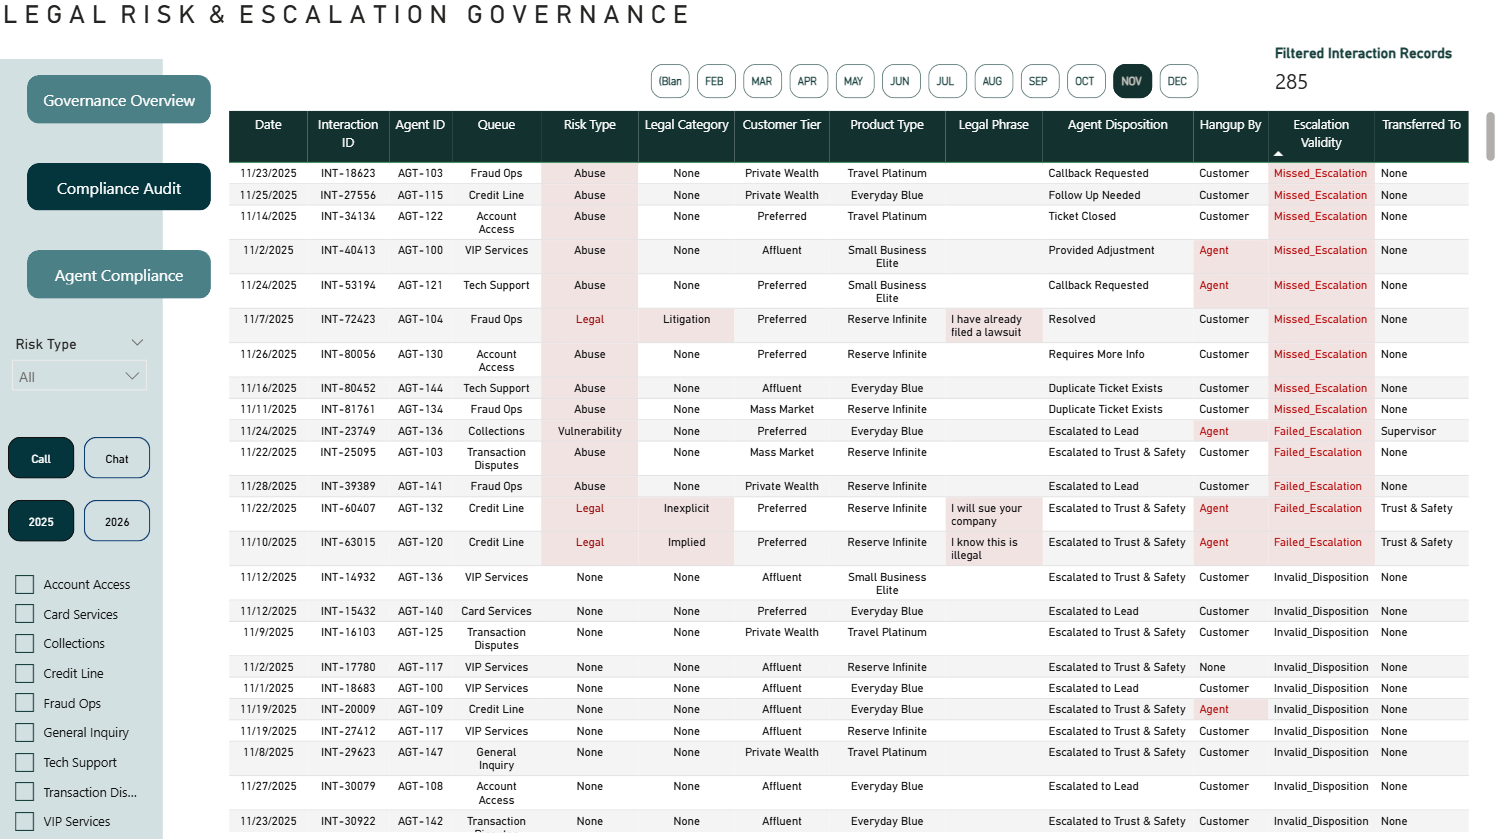

What the dashboard file says about the page in this screenshot:
{"tool":"powerbi","page":{"name":"COMPLIANCE AUDIT","canvas":[1280,720],"ordinal":1},"visuals":[{"type":"textbox","box":[0,0,605.4,38.1],"z":0},{"type":"actionButton","box":[25,68.9,155.2,41.1],"z":0,"group":"g1"},{"type":"shape","box":[0,55.3,139.8,664.5],"z":1000},{"type":"actionButton","box":[25,143.2,155.2,40.2],"z":1000,"group":"g1"},{"type":"actionButton","box":[25,216.6,155.2,41.1],"z":2000,"group":"g1"},{"type":"listSlicer","fields":{"Values":["Interactions.queue"]},"box":[9.3,480.6,120.6,238.4],"z":2000},{"type":"group","id":"g1","title":"Group 1","box":[25,68.9,155.4,188.8],"z":3000},{"type":"advancedSlicerVisual","fields":{"Values":["Interactions.date.Variation.Date Hierarchy.Month"]},"box":[526.1,55.2,514,39.2],"z":4000},{"type":"advancedSlicerVisual","fields":{"Values":["Interactions.date.Variation.Date Hierarchy.Year"]},"box":[4.2,422.5,130.4,45],"z":5000},{"type":"advancedSlicerVisual","fields":{"Values":["Interactions.interaction_type"]},"box":[4.2,369.3,130.4,45],"z":6000},{"type":"tableEx","fields":{"Values":["Interactions.date","Interactions.interaction_id","Interactions.agent_id","Interactions.queue","Interactions.Risk_Type","Interactions.Legal_Category","Interactions.customer_tier","Interactions.product_type","Interactions.legal_mention","Interactions.agent_disposition","Interactions.disconnected_by","Escalation_Map.escalation_validity"]},"box":[189.8,94.3,1079.4,617.6],"z":9000},{"type":"slicer","fields":{"Values":["Interactions.Risk_Type"]},"box":[2.8,284,133.7,76.1],"z":10000},{"type":"multiRowCard","fields":{"Values":["_Measures.Records Under Review"]},"box":[1072.4,38.4,181.7,55],"z":11000}]}

Visuals, with their boxes in screenshot pixels (x1, y1, x2, y2), scaled from the page's 1280x720 canvas onto the 1511x839 screenshot:
textbox: <bbox>0, 0, 715, 44</bbox>
actionButton: <bbox>30, 80, 213, 128</bbox>
shape: <bbox>0, 64, 165, 838</bbox>
actionButton: <bbox>30, 167, 213, 214</bbox>
actionButton: <bbox>30, 252, 213, 300</bbox>
listSlicer - Interactions.queue: <bbox>11, 560, 153, 838</bbox>
"Group 1" group: <bbox>30, 80, 213, 300</bbox>
advancedSlicerVisual - Interactions.date.Variation.Date Hierarchy.Month: <bbox>621, 64, 1228, 110</bbox>
advancedSlicerVisual - Interactions.date.Variation.Date Hierarchy.Year: <bbox>5, 492, 159, 545</bbox>
advancedSlicerVisual - Interactions.interaction_type: <bbox>5, 430, 159, 483</bbox>
tableEx - Interactions.date x Interactions.interaction_id: <bbox>224, 110, 1498, 830</bbox>
slicer - Interactions.Risk_Type: <bbox>3, 331, 161, 420</bbox>
multiRowCard - _Measures.Records Under Review: <bbox>1266, 45, 1480, 109</bbox>
